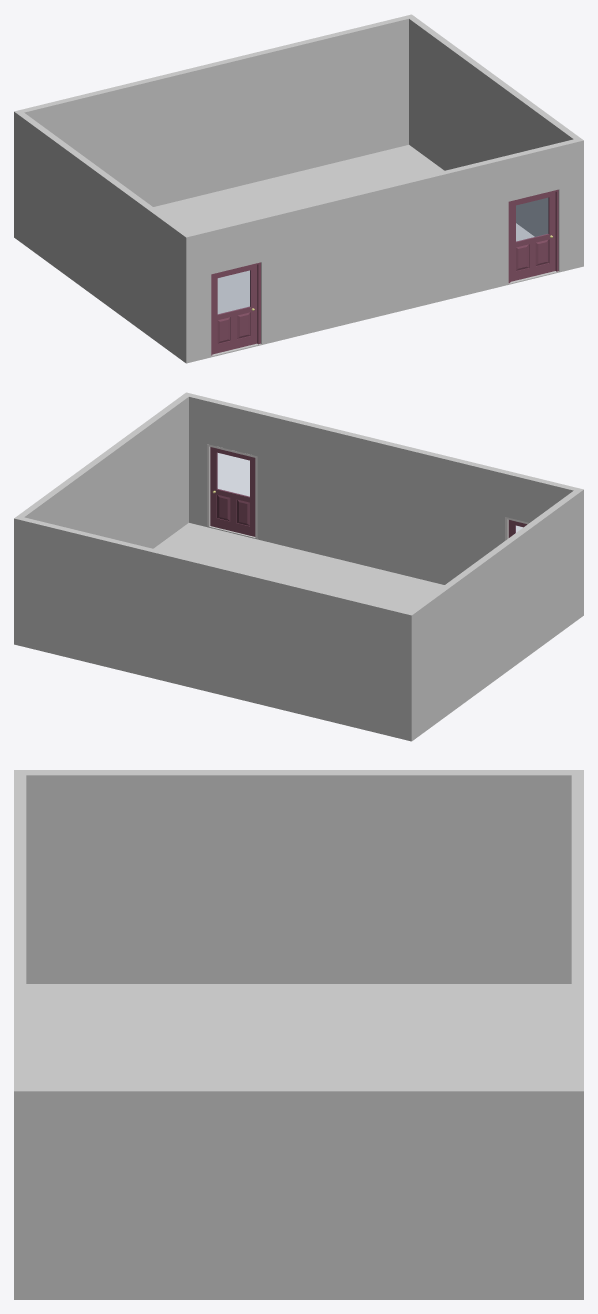
The model's file is aksu.dae.
3 views of the same model, one above another, from view 1: azimuth 30°, elevation 25°; view 2: azimuth 150°, elevation 25°; view 3: azimuth 270°, elevation 25° (orthographic). The views are drawn at different scales.
Parts seen in each view (by area): view 1: Mesh19_Model, Mesh16_Group11_Entry_Door_2_panel___window2_Entry_Door___woo, Mesh7_Group5_Entry_Door_2_panel___window1_Entry_Door___wood_, Mesh15_Group10_Entry_Door_2_panel___window2_Entry_Door___woo, Mesh6_Group4_Entry_Door_2_panel___window1_Entry_Door___wood_, Mesh10_Group8_Group7_Entry_Door_2_panel___window2_Entry_Door, Mesh1_Group2_Group1_Entry_Door_2_panel___window1_Entry_Door_; view 2: Mesh19_Model, Mesh16_Group11_Entry_Door_2_panel___window2_Entry_Door___woo, Mesh15_Group10_Entry_Door_2_panel___window2_Entry_Door___woo, Mesh11_Group9_Group7_Entry_Door_2_panel___window2_Entry_Door; view 3: Mesh19_Model.
Boxes of the visible parts, box(x1,y1,x2,y2) form: Mesh19_Model: box(14, 14, 583, 363); Mesh16_Group11_Entry_Door_2_panel___window2_Entry_Door___woo: box(510, 192, 555, 281); Mesh7_Group5_Entry_Door_2_panel___window1_Entry_Door___wood_: box(212, 264, 257, 354); Mesh15_Group10_Entry_Door_2_panel___window2_Entry_Door___woo: box(516, 198, 548, 241); Mesh6_Group4_Entry_Door_2_panel___window1_Entry_Door___wood_: box(218, 271, 249, 314); Mesh10_Group8_Group7_Entry_Door_2_panel___window2_Entry_Door: box(508, 189, 558, 283); Mesh1_Group2_Group1_Entry_Door_2_panel___window1_Entry_Door_: box(211, 262, 260, 355); Mesh19_Model: box(14, 392, 583, 741); Mesh16_Group11_Entry_Door_2_panel___window2_Entry_Door___woo: box(210, 447, 255, 536); Mesh15_Group10_Entry_Door_2_panel___window2_Entry_Door___woo: box(217, 453, 249, 496); Mesh11_Group9_Group7_Entry_Door_2_panel___window2_Entry_Door: box(207, 444, 257, 538); Mesh19_Model: box(14, 770, 583, 1299).
Bounding box in the file's own units: 9.91 × 7.43 × 3.
